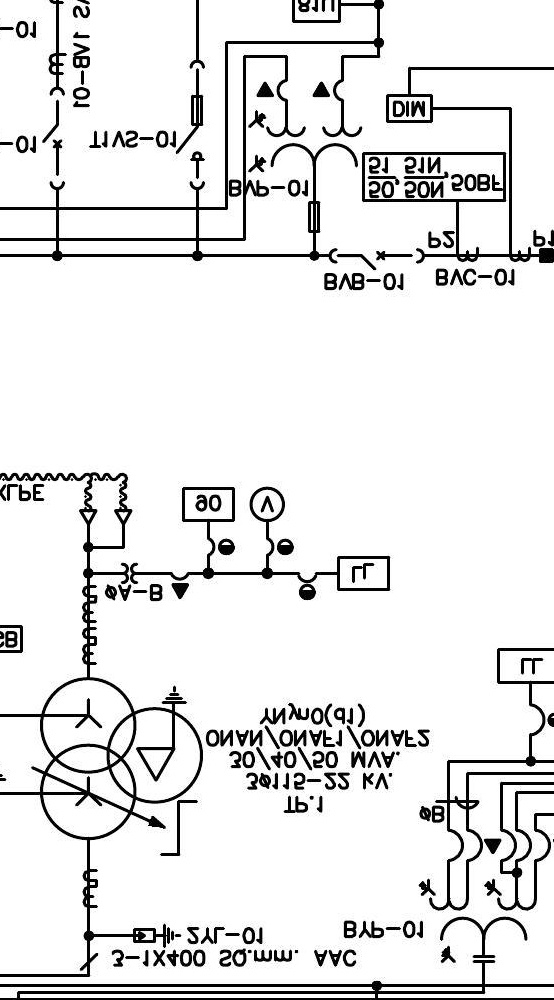11522_tx_ynyn0d1: (38, 676, 204, 841)
115_cvt_3p: (418, 878, 538, 963)
115_la: (133, 923, 182, 949)
22_breaker: (42, 87, 66, 191), (328, 247, 425, 271)
22_ds: (175, 60, 206, 191)
22_vt_3p: (247, 78, 363, 234)
DIM: (386, 94, 433, 123)
LL: (337, 555, 390, 591)
terminator_double: (78, 509, 134, 550)
v_m: (249, 485, 286, 523)
